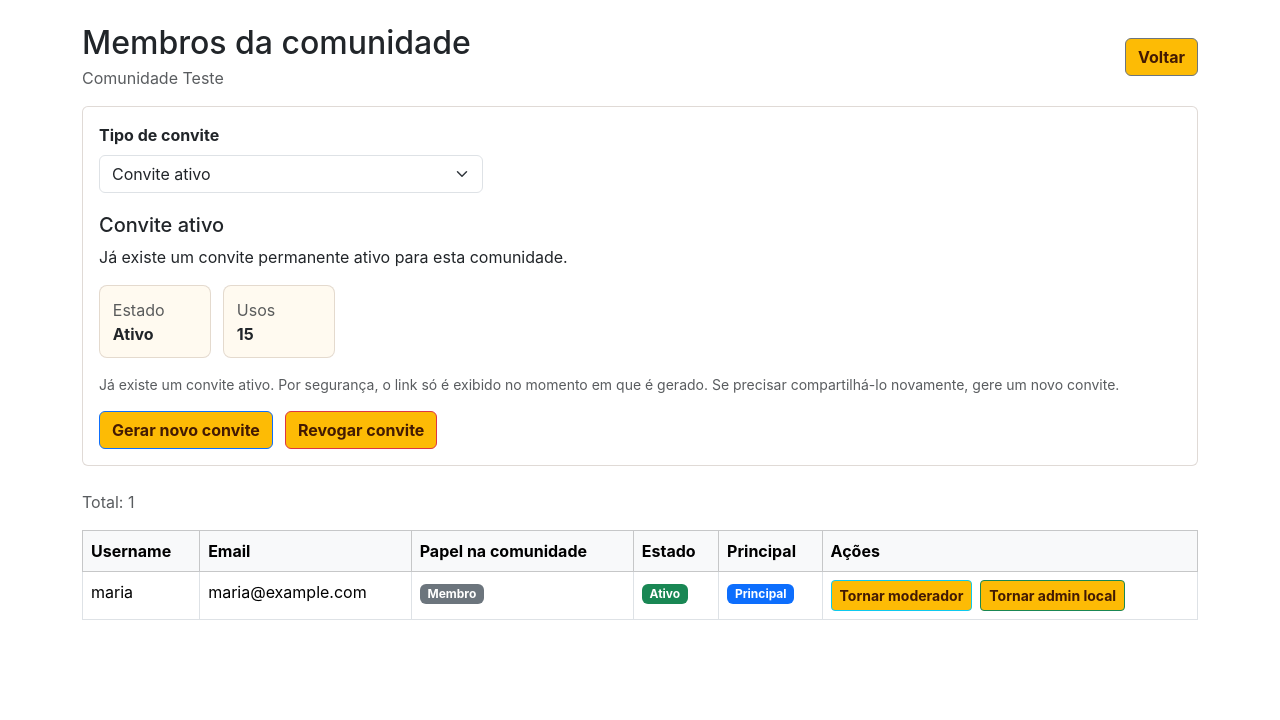
Test: selector inicia em Convite ativo e alterna cartões sem criar ou revogar convites
Expected: the text "maria" is shown, left=82, top=571, right=200, bottom=619
Expected: the text with test id "invitation-card-title" reads "Convite ativo", left=99, top=213, right=224, bottom=237
Step 1. Select "Convite de Consolidação" in the dropdown labelled "Tipo de convite" → (291, 174), box left=99, top=155, right=483, bottom=193
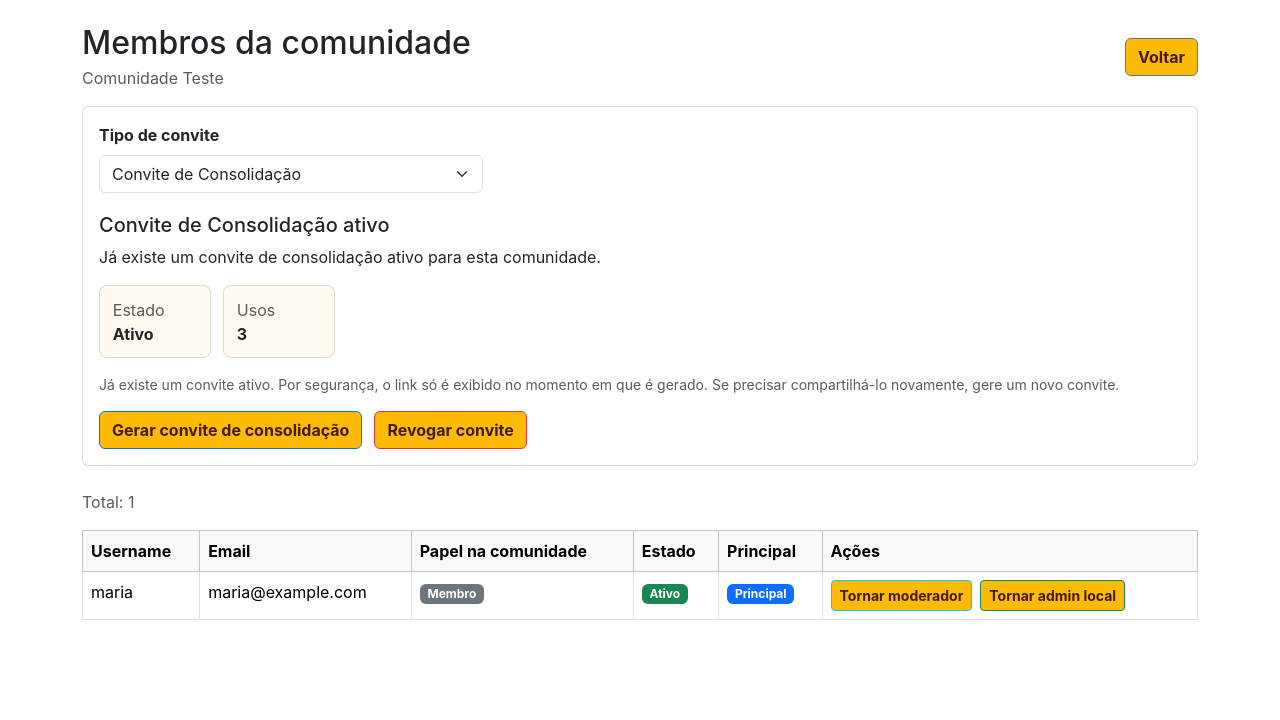
Now the text with test id "invitation-card-title" reads "Convite de Consolidação ativo", box left=99, top=213, right=390, bottom=237
Now the text "3" is shown, box left=237, top=324, right=247, bottom=344
Now the text with test id "invitation-card-title" no longer shows "Convite ativo", box left=99, top=213, right=390, bottom=237
Step 2. Select "Convite ativo" in the dropdown labelled "Tipo de convite" → (291, 174), box left=99, top=155, right=483, bottom=193
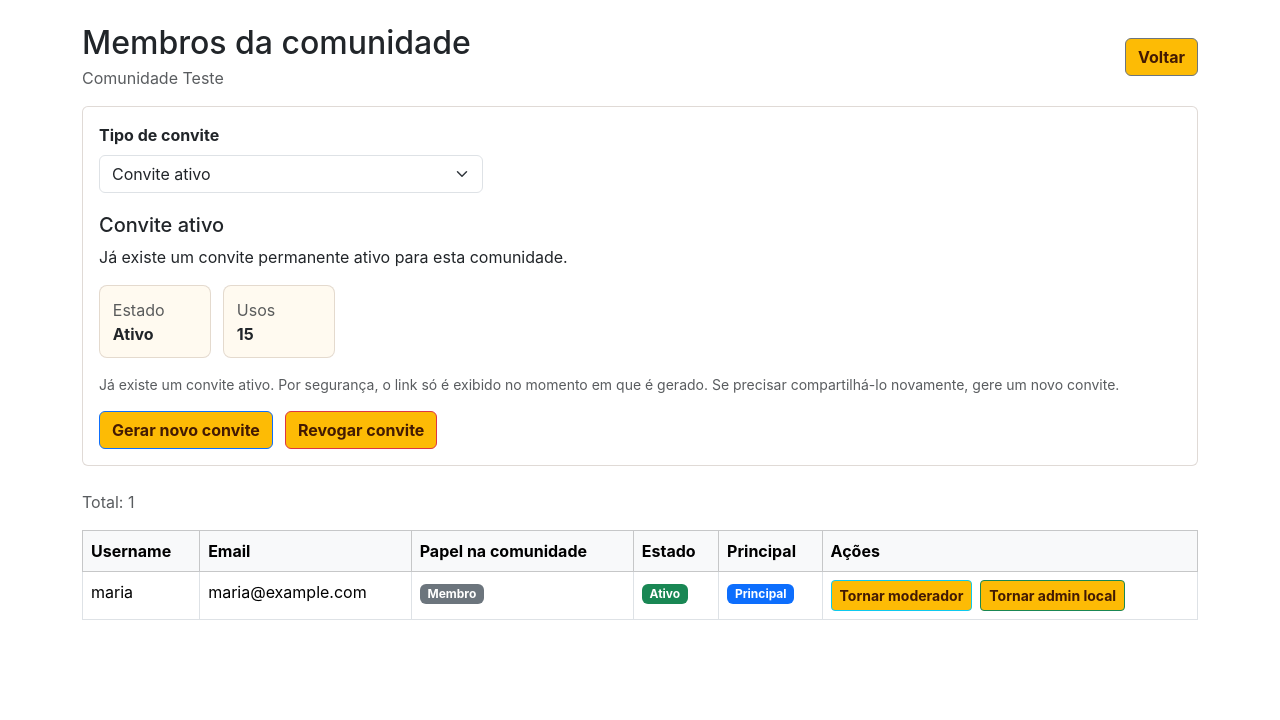
Now the text with test id "invitation-card-title" reads "Convite ativo", box left=99, top=213, right=224, bottom=237
Now the text "15" is shown, box left=237, top=324, right=254, bottom=344
Now the text with test id "invitation-card-title" no longer shows "Convite de Consolidação ativo", box left=99, top=213, right=224, bottom=237
